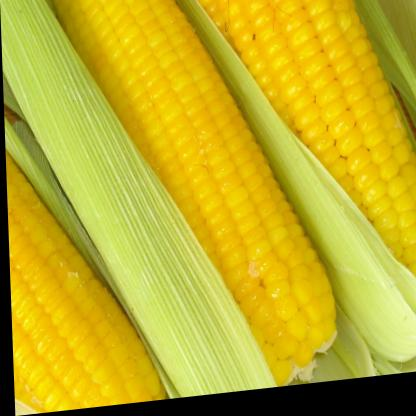corn: (33, 0, 345, 413), (174, 0, 416, 347), (3, 92, 170, 416)
